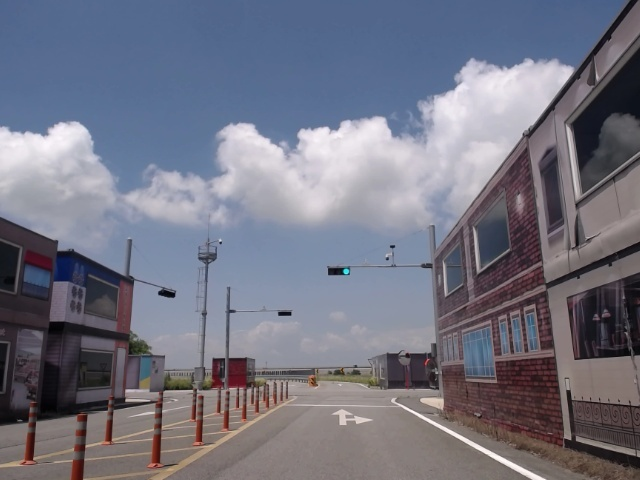green_3: (328, 267, 349, 275)
